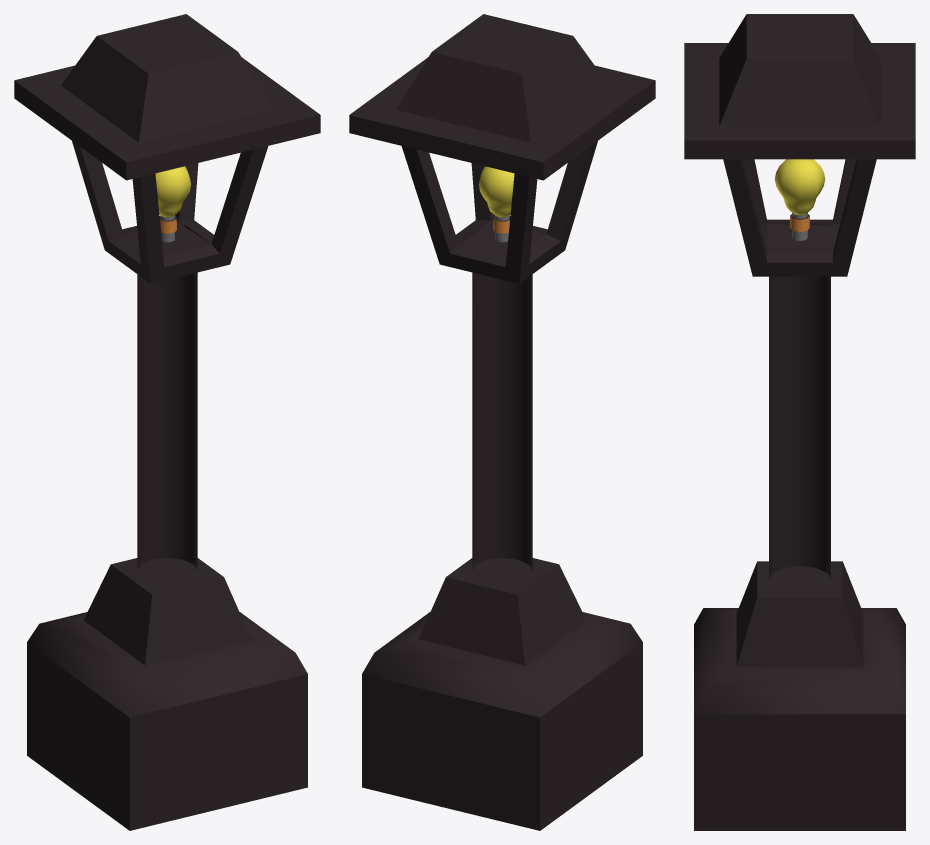
The model's file is prop_streetlight.fbx.
The picture shows the model from 3 angles, left to right: view 1: azimuth 30°, elevation 25°; view 2: azimuth 150°, elevation 25°; view 3: azimuth 270°, elevation 25°; orthographic projection. The views are drawn at different scales.
Visible parts, largest first — view 1: street_lamp; view 2: street_lamp; view 3: street_lamp.
Boxes of the visible parts, x1=… form: street_lamp: x1=14, y1=14, x2=320, y2=830; street_lamp: x1=349, y1=14, x2=655, y2=830; street_lamp: x1=684, y1=14, x2=915, y2=830.
Bounding box in the file's own units: 2.87 × 10.27 × 2.87.
